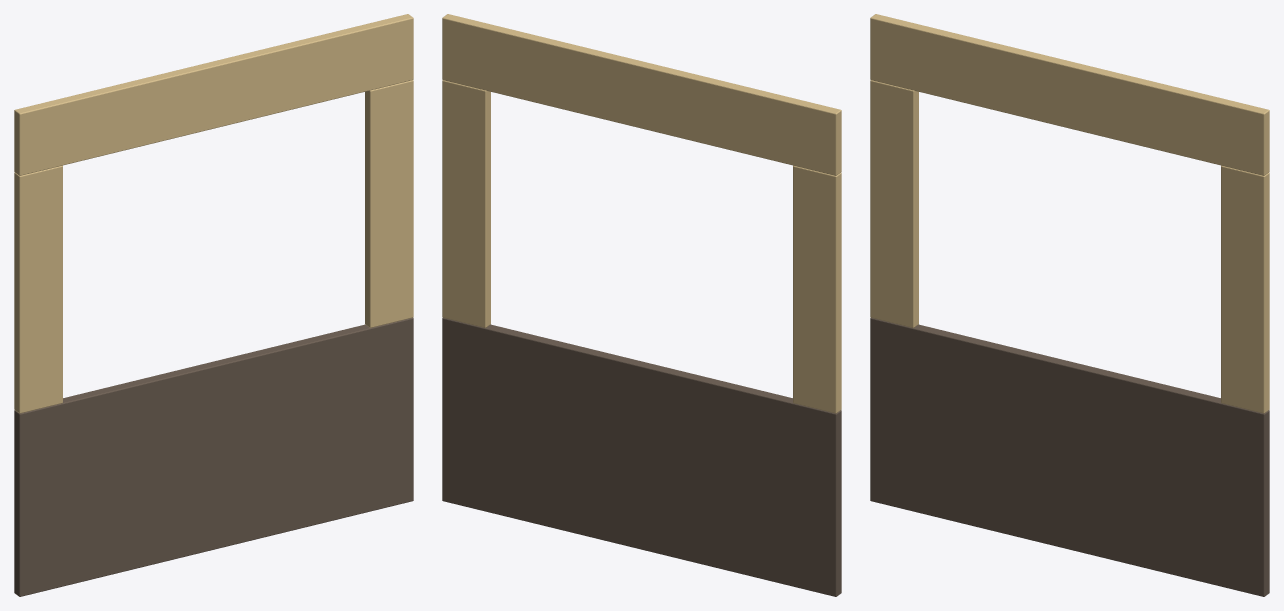
Rendered from frame.glb.
3 views of the same model, side by side, from view 1: azimuth 30°, elevation 25°; view 2: azimuth 150°, elevation 25°; view 3: azimuth 330°, elevation 25° (orthographic).
Parts seen in each view (by area): view 1: FrameBottom, FrameTop, FrameLeft, FrameRight; view 2: FrameBottom, FrameTop, FrameLeft, FrameRight; view 3: FrameBottom, FrameTop, FrameRight, FrameLeft.
Boxes of the visible parts, box(x1,y1,x2,y2) form: FrameBottom: box(14, 318, 413, 596); FrameTop: box(14, 14, 413, 175); FrameLeft: box(14, 165, 62, 413); FrameRight: box(365, 80, 413, 327); FrameBottom: box(442, 318, 841, 596); FrameTop: box(442, 14, 841, 175); FrameLeft: box(793, 165, 841, 413); FrameRight: box(442, 80, 490, 327); FrameBottom: box(870, 318, 1269, 596); FrameTop: box(870, 14, 1269, 175); FrameRight: box(1221, 165, 1269, 413); FrameLeft: box(870, 80, 918, 327).
Bounding box in the file's own units: 1.98 × 2.32 × 0.05.
